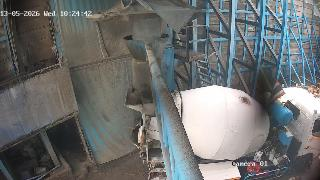cement_mixer_truck: (126, 83, 320, 180)
swing_chute: (122, 33, 173, 98)
